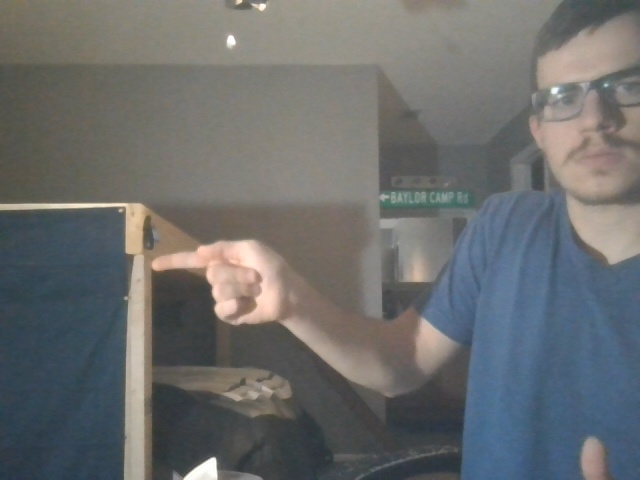G: (142, 235, 290, 337)
